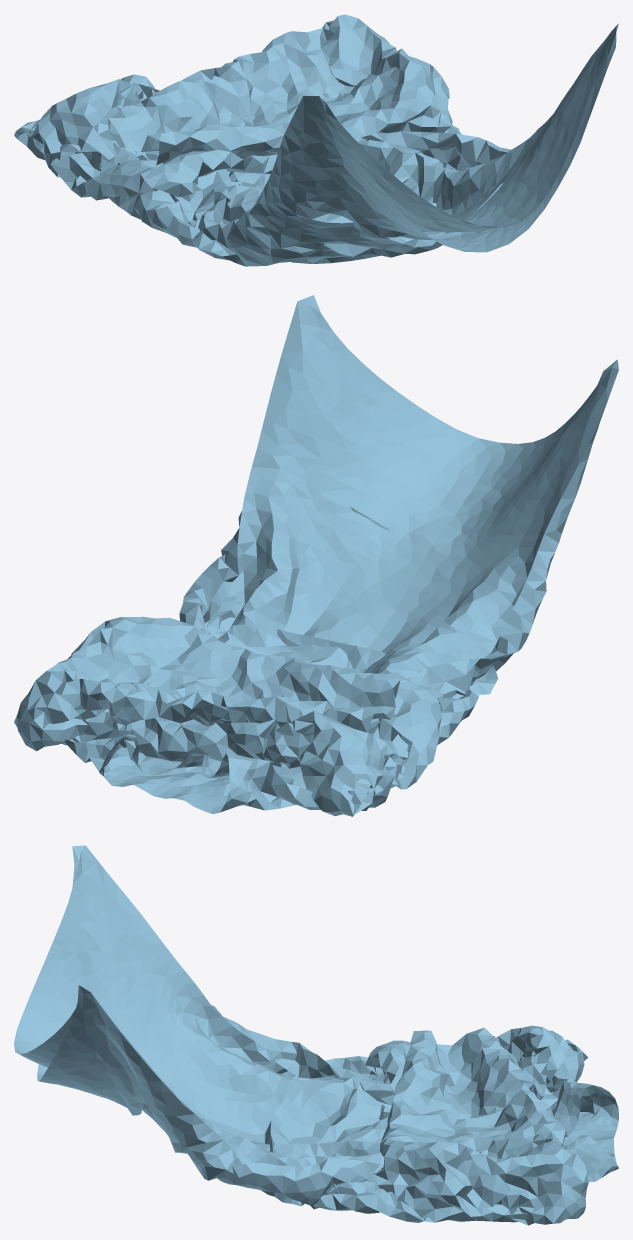
Rendered from frame_04.glb.
The picture shows the model from 3 angles, top to bottom: view 1: azimuth 30°, elevation 25°; view 2: azimuth 150°, elevation 25°; view 3: azimuth 270°, elevation 25°; orthographic projection. The views are drawn at different scales.
Visible parts, largest first — view 1: frame_04.obj; view 2: frame_04.obj; view 3: frame_04.obj.
Part boxes in pixels (<box>): frame_04.obj: <box>14,14,618,266</box>; frame_04.obj: <box>14,295,618,816</box>; frame_04.obj: <box>14,845,618,1225</box>.
Bounding box in the file's own units: 0.932 × 0.653 × 1.48.
